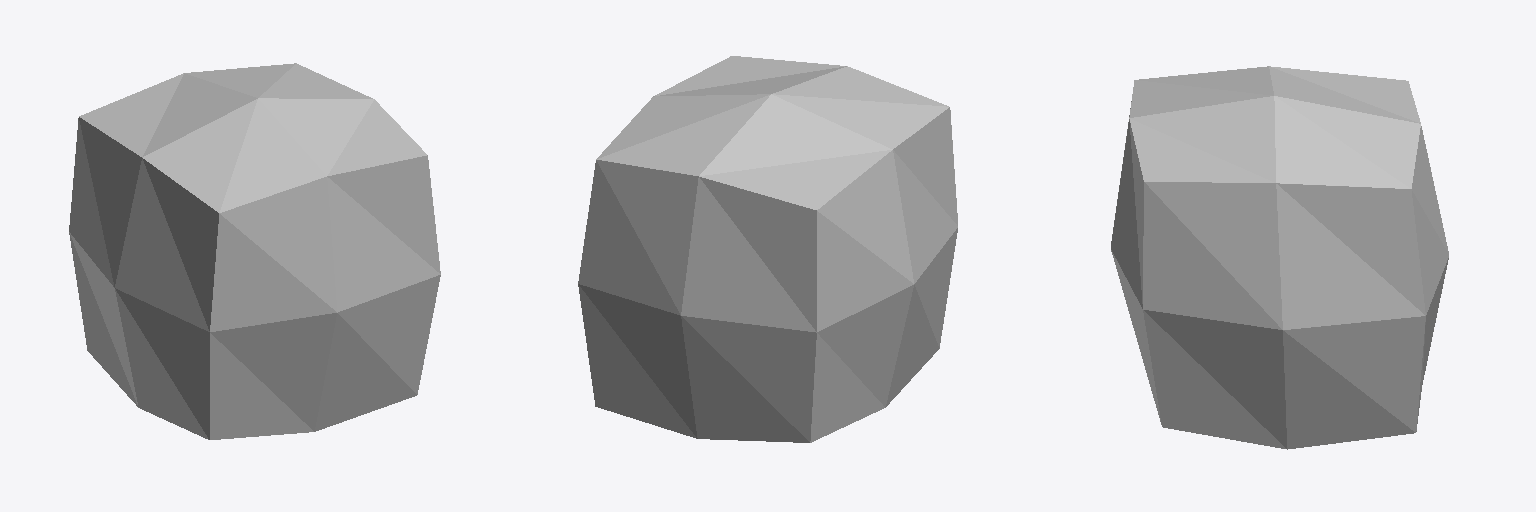
The model's file is sol1low.obj.
3 renders of one model, left to right at view 1: azimuth 30°, elevation 25°; view 2: azimuth 150°, elevation 25°; view 3: azimuth 270°, elevation 25°, orthographic.
Parts seen in each view (by area): view 1: Cube_Cube.001; view 2: Cube_Cube.001; view 3: Cube_Cube.001.
Part boxes in pixels (left/top/right/bottom): Cube_Cube.001: left=69, top=63, right=440, bottom=439; Cube_Cube.001: left=578, top=56, right=957, bottom=442; Cube_Cube.001: left=1111, top=66, right=1448, bottom=449.
Bounding box in the file's own units: 0.6586 × 0.6995 × 0.6719.